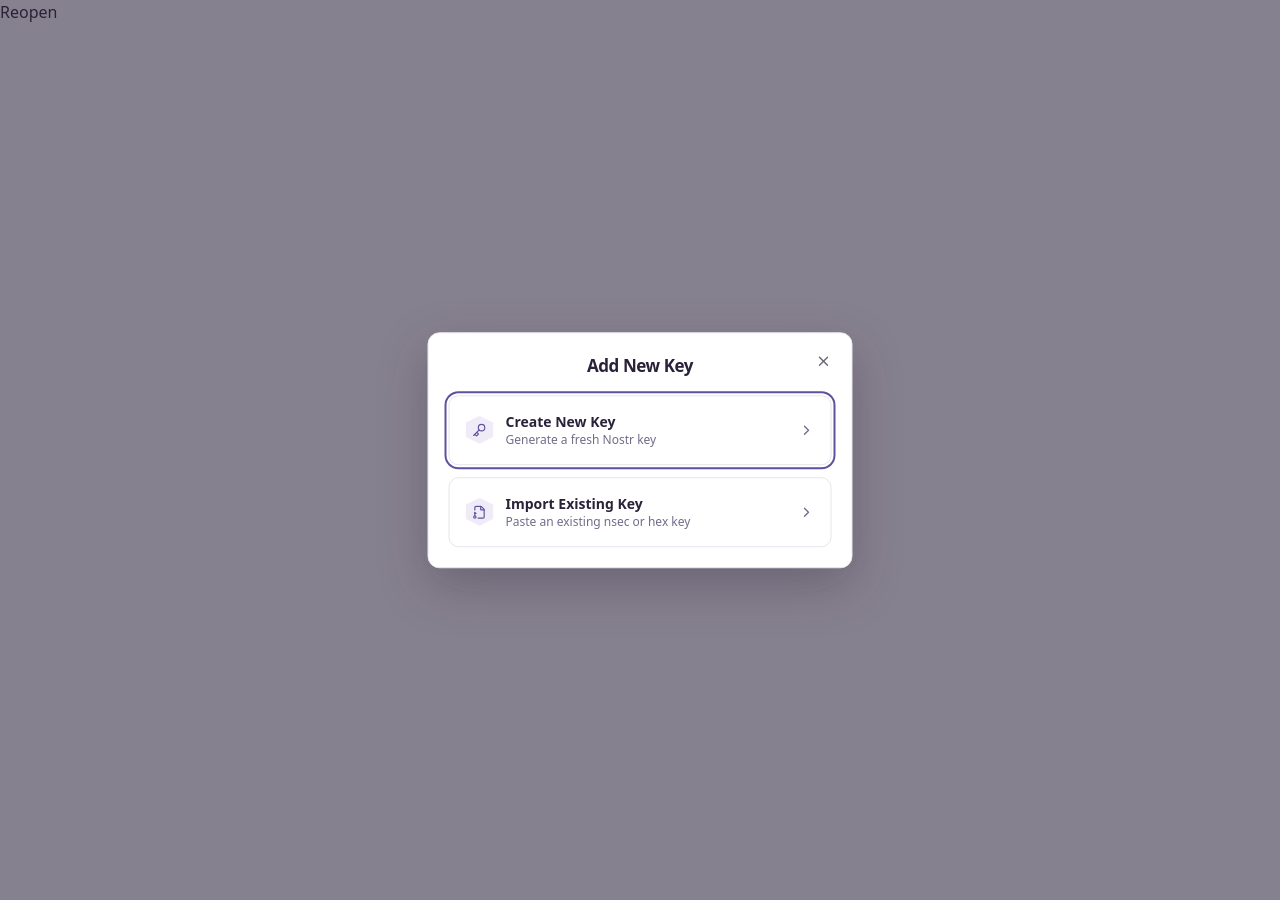
Test: add key dialog › opens the create form and returns to the choice on Back
Click the button "Create New Key Generate a fresh Nostr key".
click(640, 430)  # box x1=448 y1=395 x2=832 y2=465
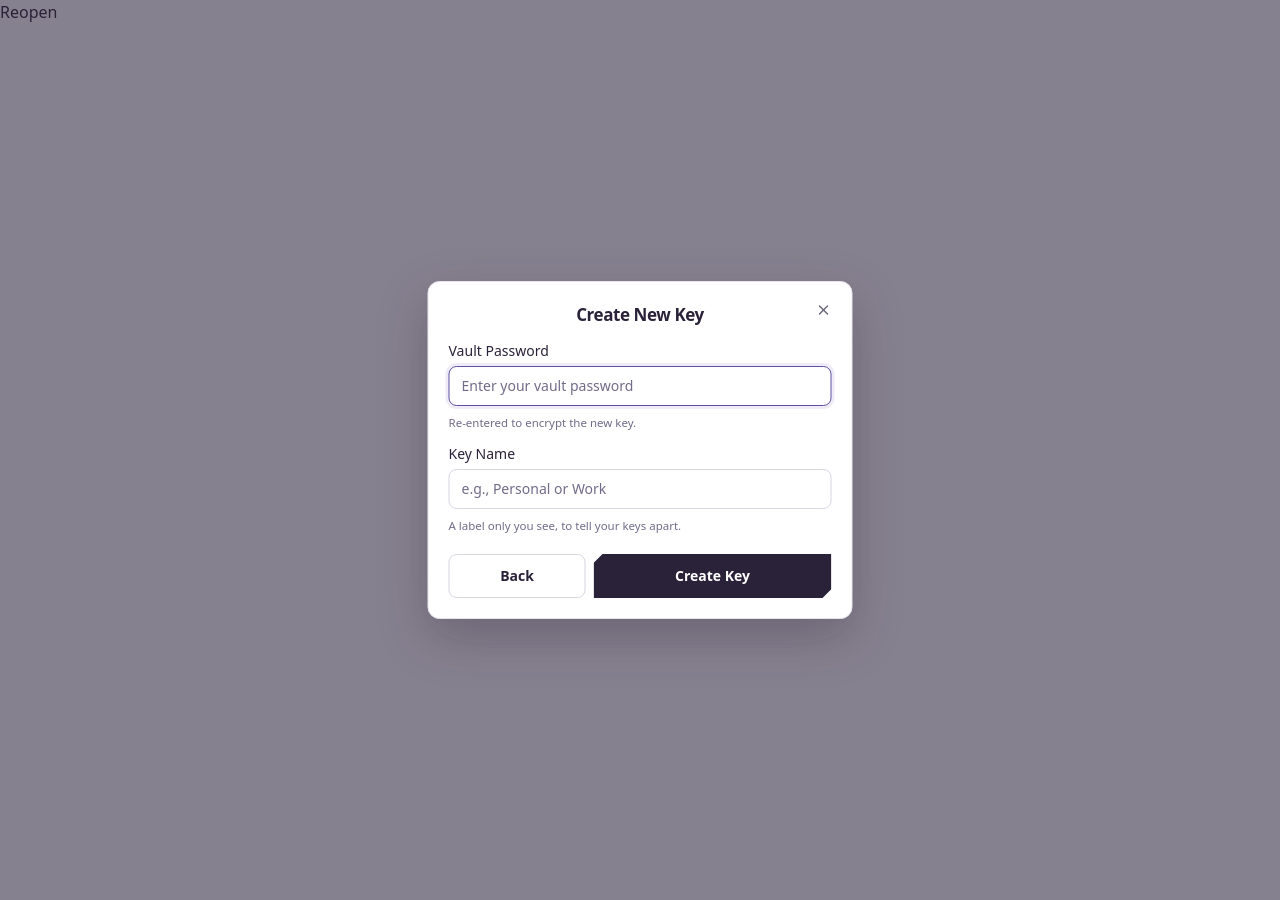
Now the heading "Create New Key" is shown, box x1=576 y1=303 x2=704 y2=326
Now the password field labelled "Vault Password" is shown, box x1=448 y1=366 x2=832 y2=406
Click the button "Back".
click(517, 576)  # box x1=448 y1=554 x2=586 y2=598
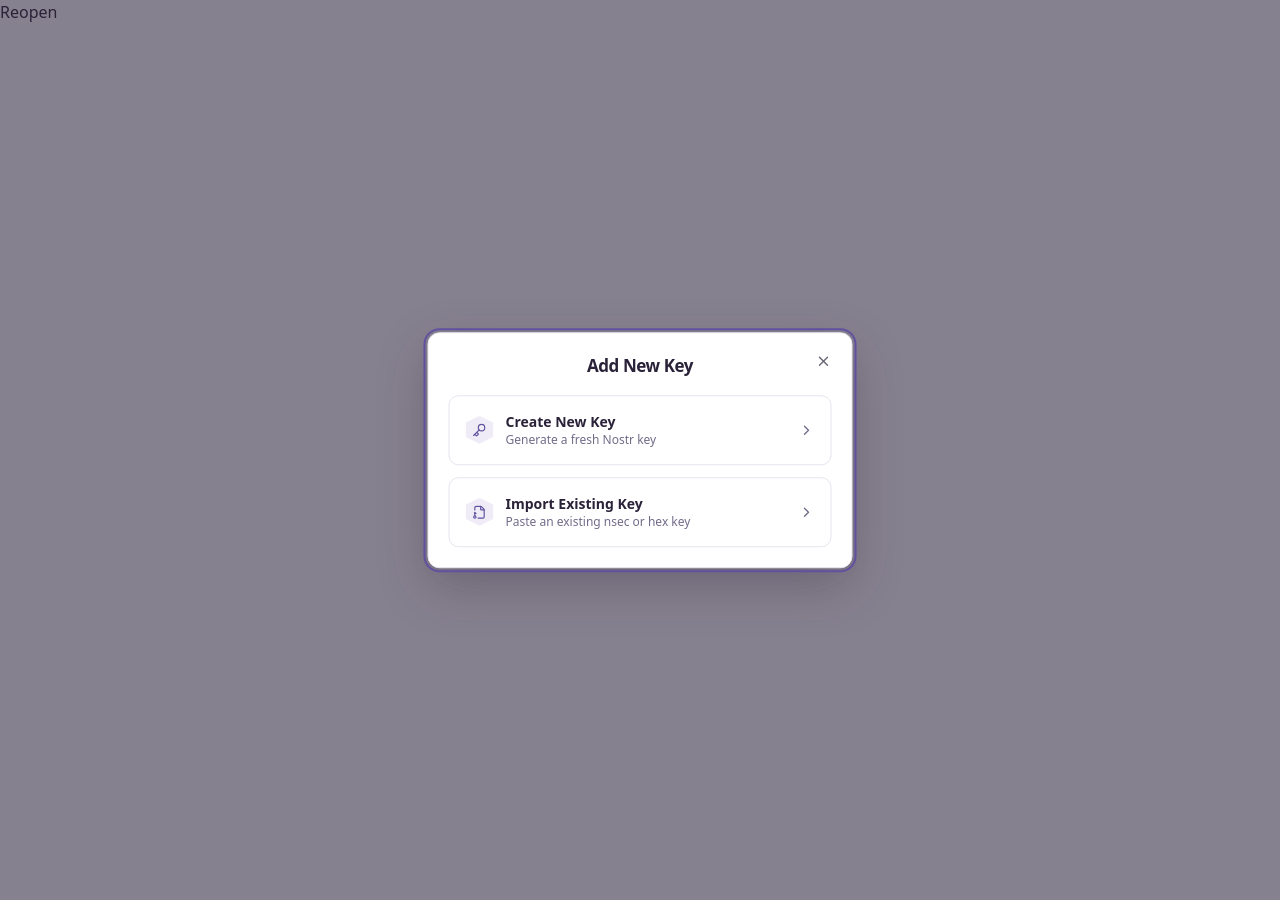
Now the heading "Add New Key" is shown, box x1=587 y1=354 x2=693 y2=377
